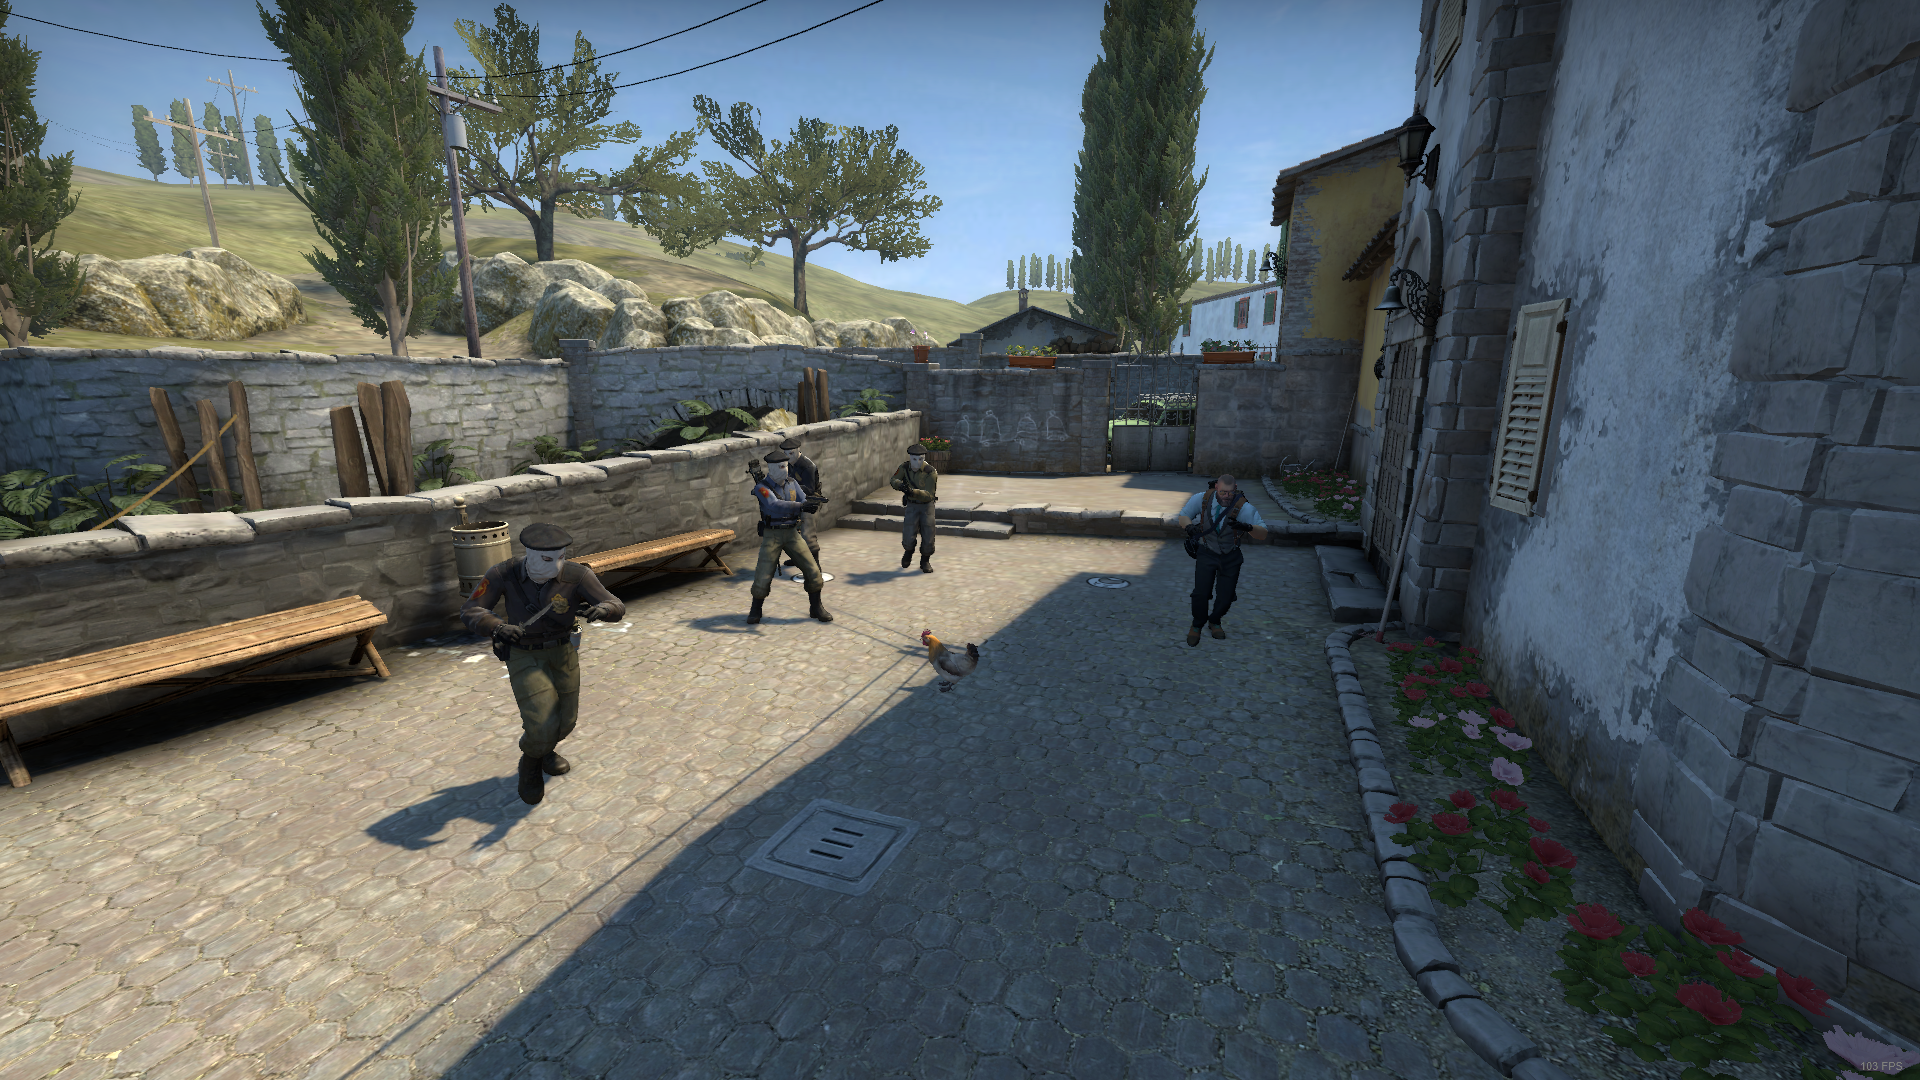t: (462, 520, 630, 818), (746, 450, 833, 625), (887, 443, 951, 578), (769, 439, 827, 582)
